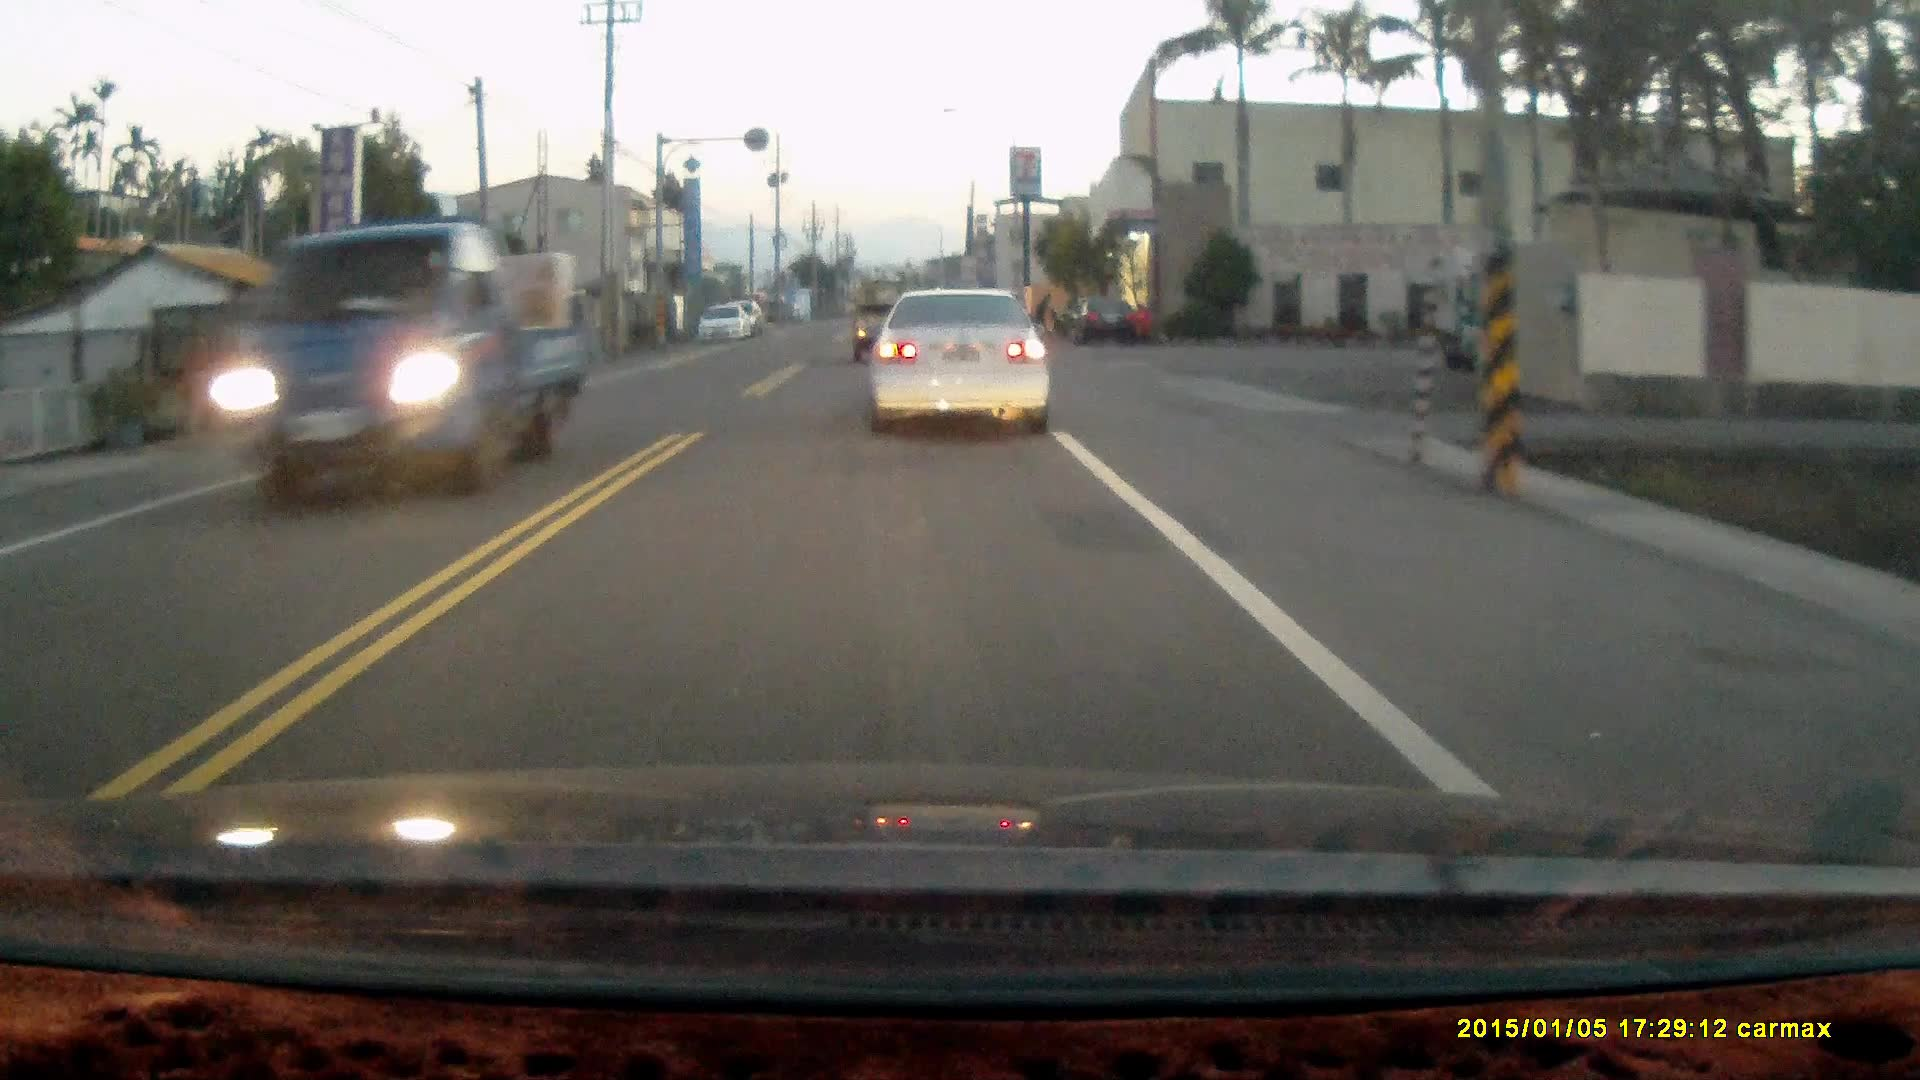rider: (1022, 291, 1064, 340)
vehicle: (202, 219, 594, 506), (875, 284, 1057, 435), (853, 275, 927, 363), (1070, 287, 1138, 343), (701, 305, 752, 347)
